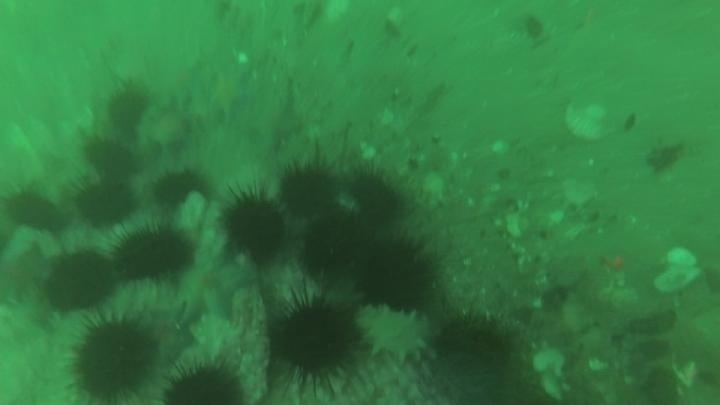echinus: (269, 298, 359, 388), (69, 317, 157, 402), (356, 240, 436, 312), (112, 224, 194, 284), (434, 311, 514, 371), (221, 193, 289, 263), (43, 251, 117, 314), (160, 359, 246, 405), (299, 215, 362, 276), (343, 169, 404, 229), (278, 162, 339, 218), (73, 179, 136, 229), (4, 187, 67, 235), (83, 136, 139, 181), (151, 167, 206, 209), (104, 84, 151, 133), (640, 366, 683, 405), (519, 14, 550, 45)
holothurian: (353, 302, 434, 364), (186, 313, 249, 368)
scallop: (562, 98, 610, 143)
starfish: (181, 233, 259, 315), (247, 91, 305, 152), (144, 301, 199, 360), (1, 243, 51, 305), (205, 68, 256, 121), (159, 58, 207, 109), (142, 103, 194, 150)
